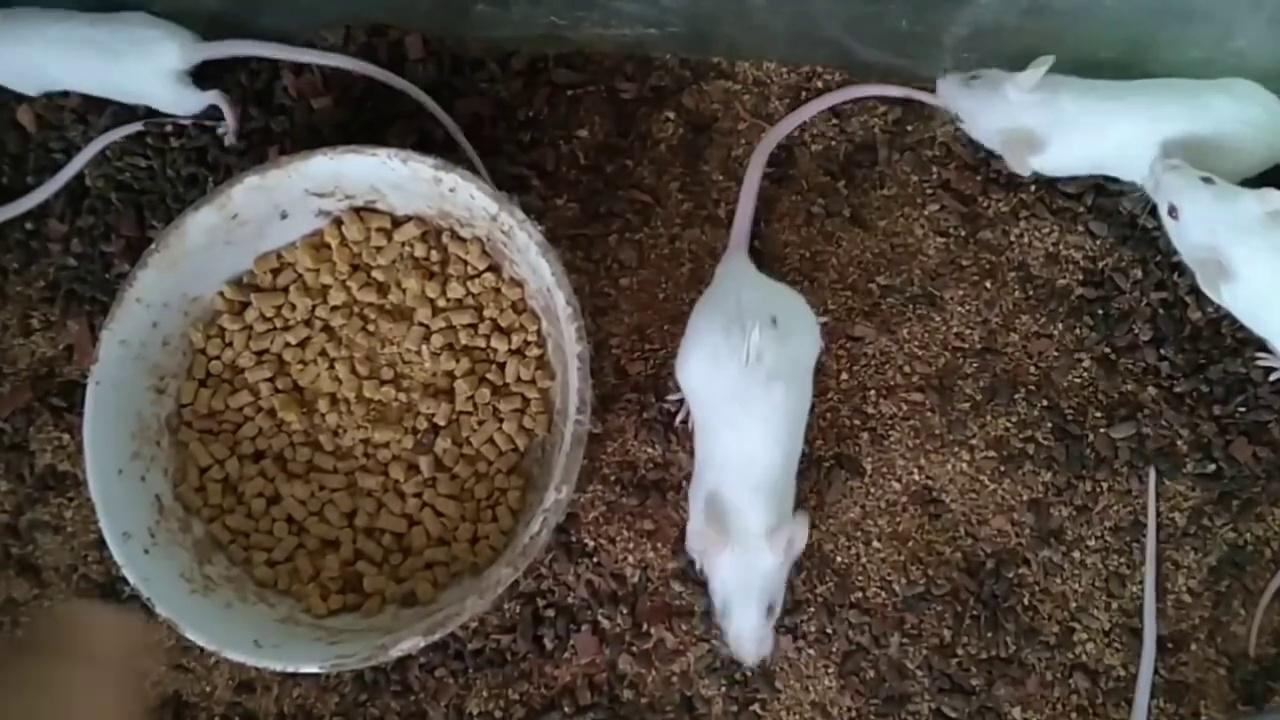rat: (668, 86, 946, 668), (0, 0, 489, 181), (942, 54, 1278, 184), (1139, 158, 1280, 384)
